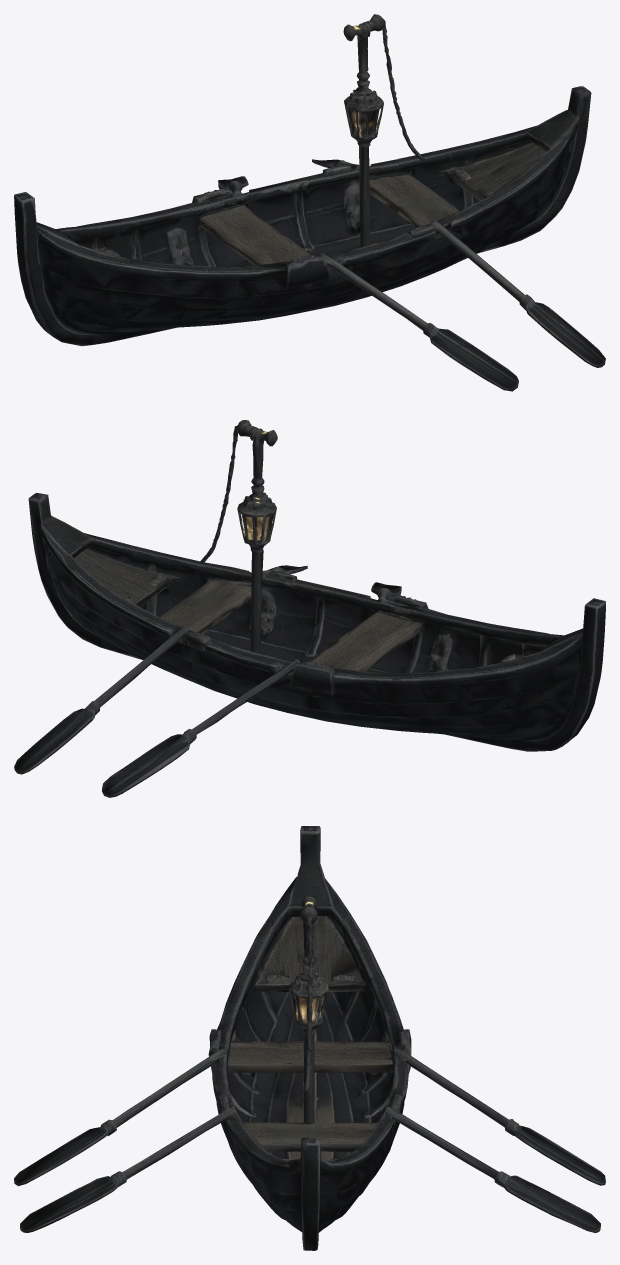
Rendered from boat.glb.
The picture shows the model from 3 angles, top to bottom: view 1: azimuth 30°, elevation 25°; view 2: azimuth 150°, elevation 25°; view 3: azimuth 270°, elevation 25°; orthographic projection. The views are drawn at different scales.
Size of the model in its own units: 1.9 by 0.8651 by 1.65.
1 material, 1 textured.
